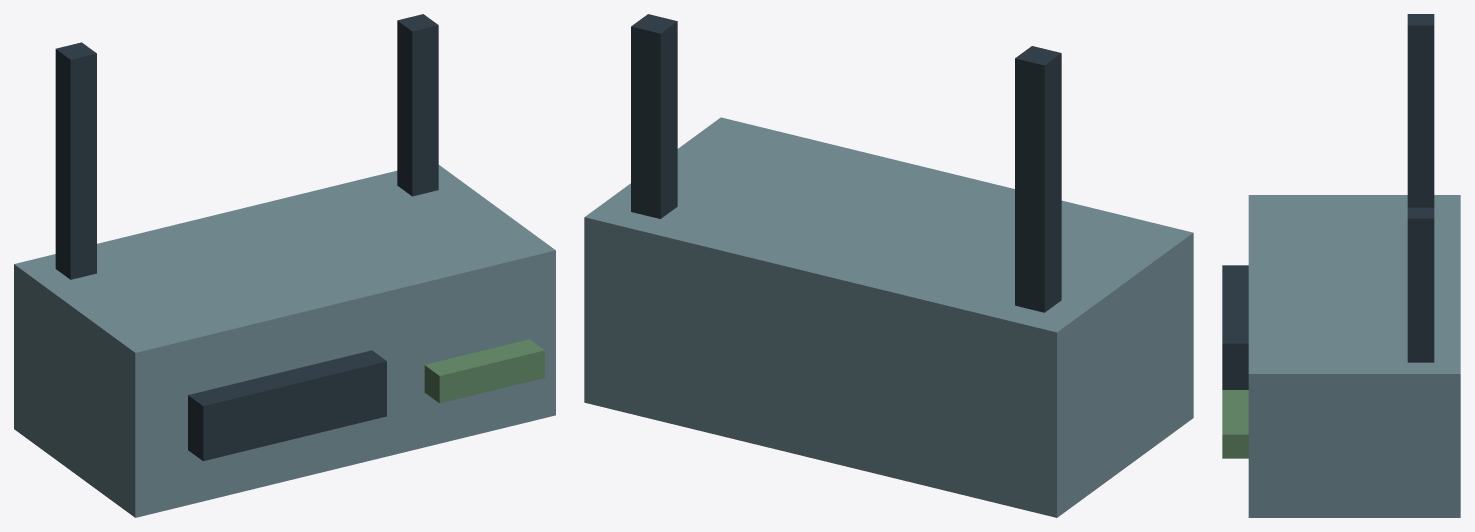
File: telecom-17.glb
The picture shows the model from 3 angles, left to right: view 1: azimuth 30°, elevation 25°; view 2: azimuth 150°, elevation 25°; view 3: azimuth 270°, elevation 25°; orthographic projection. The views are drawn at different scales.
Visible parts, largest first — view 1: Modem; view 2: Modem; view 3: Modem.
Part boxes in pixels (box(x1,y1,x2,y2)): Modem: box(14, 14, 555, 517); Modem: box(584, 14, 1193, 517); Modem: box(1222, 14, 1460, 517).
Size of the model in its own units: 1.28 by 1.12 by 0.72.
